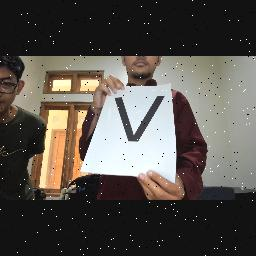v: (110, 93, 170, 149)
